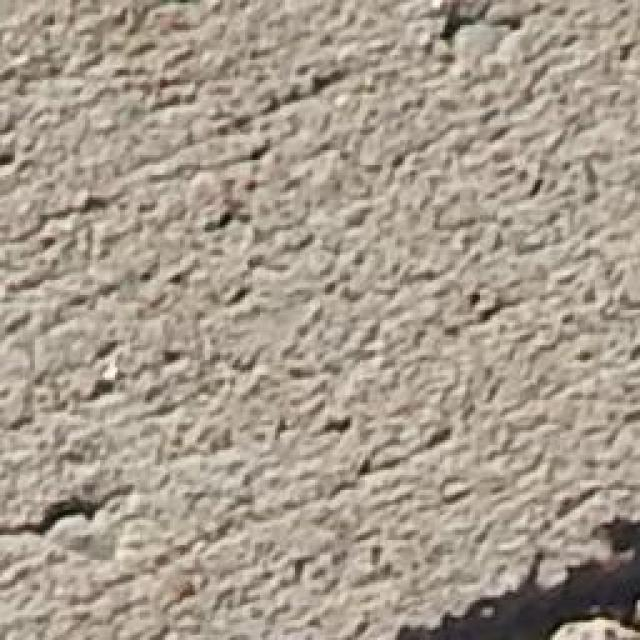concrete-crack: (378, 499, 640, 640), (9, 482, 139, 541)
